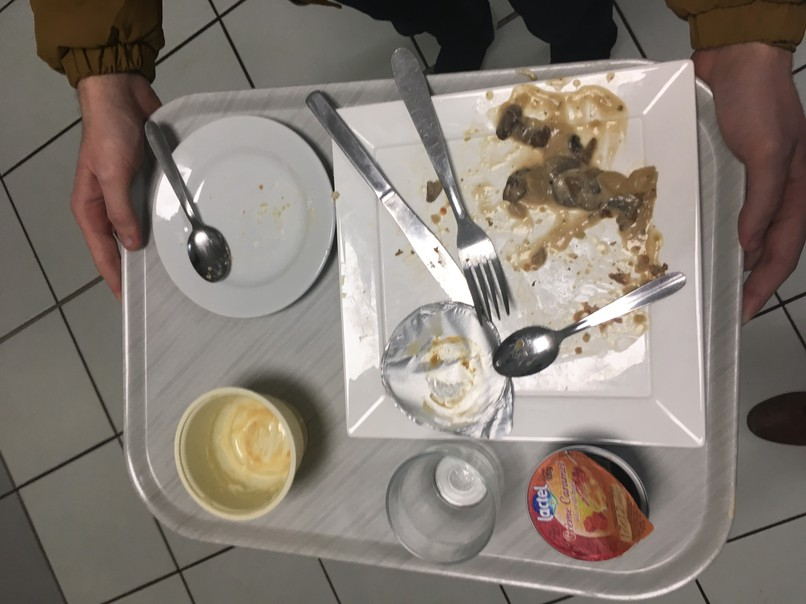cup: (379, 443, 501, 589)
cutlery: (296, 44, 531, 323), (482, 265, 697, 384), (129, 119, 241, 284)
orga: (509, 105, 667, 236)
trash: (377, 295, 536, 442), (166, 385, 321, 533), (528, 436, 662, 578)
